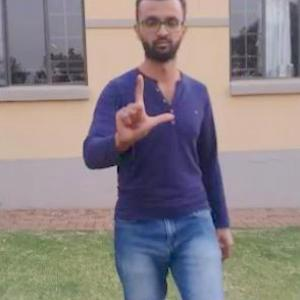land_hand: (109, 67, 179, 149)
